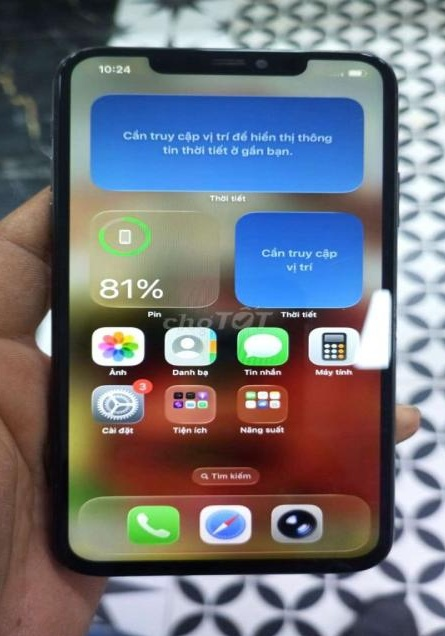scratch: (50, 44, 102, 72), (359, 49, 387, 63)
